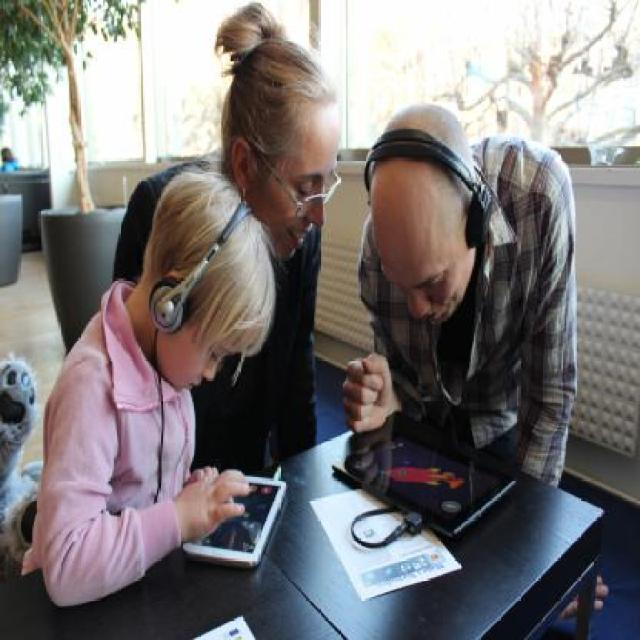earphone: (377, 110, 515, 255), (145, 178, 248, 338)
tablet: (325, 405, 492, 550), (182, 466, 293, 566)
